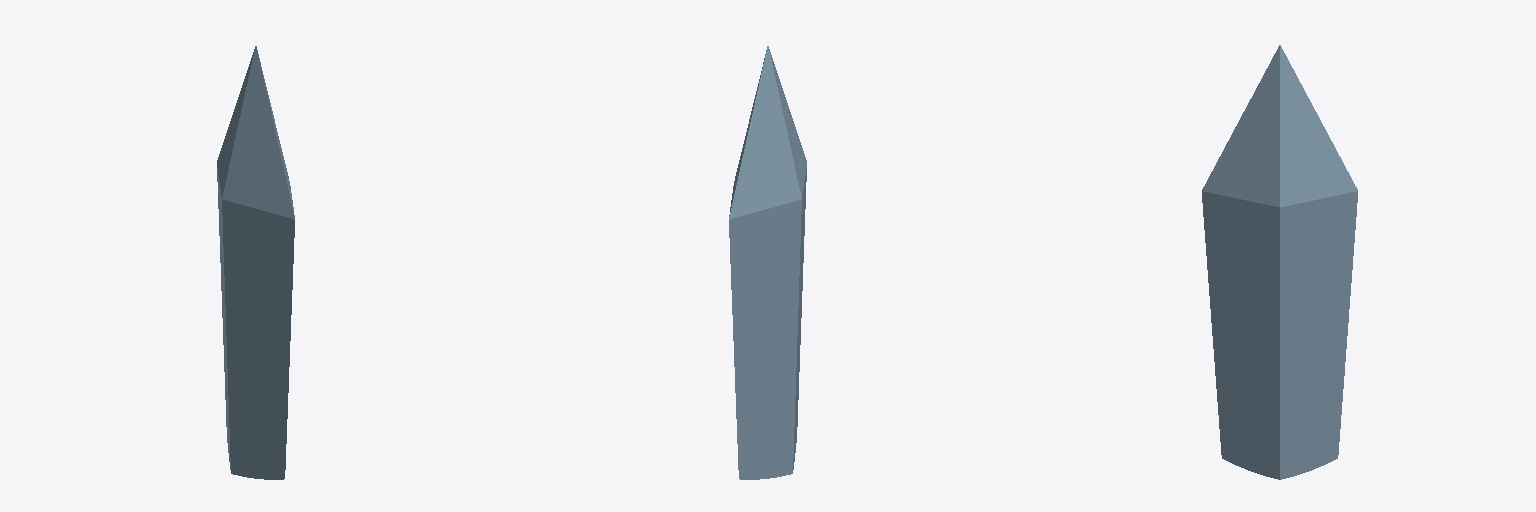
The model's file is sword_blade.obj.
3 views of the same model, side by side, from view 1: azimuth 30°, elevation 25°; view 2: azimuth 150°, elevation 25°; view 3: azimuth 270°, elevation 25° (orthographic).
Visible parts, largest first — view 1: sword; view 2: sword; view 3: sword.
Part boxes in pixels (left/top/right/bottom): sword: left=217, top=46, right=294, bottom=479; sword: left=729, top=46, right=806, bottom=479; sword: left=1202, top=45, right=1357, bottom=479.
Size of the model in its own units: 0.6421 by 3.82 by 1.28.